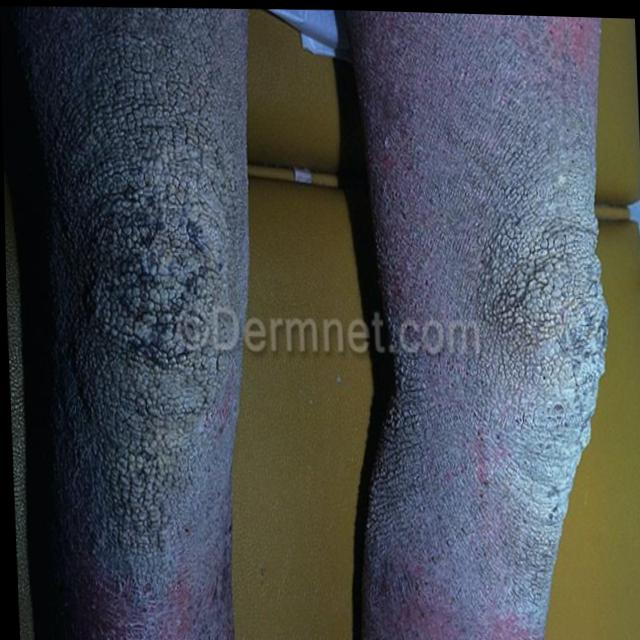liquenificacion 1: (356, 15, 608, 640), (23, 6, 255, 610)
liquenificacion 2: (356, 15, 608, 640), (23, 6, 255, 610)
liquenificacion 3: (356, 15, 608, 640), (23, 6, 255, 610)
